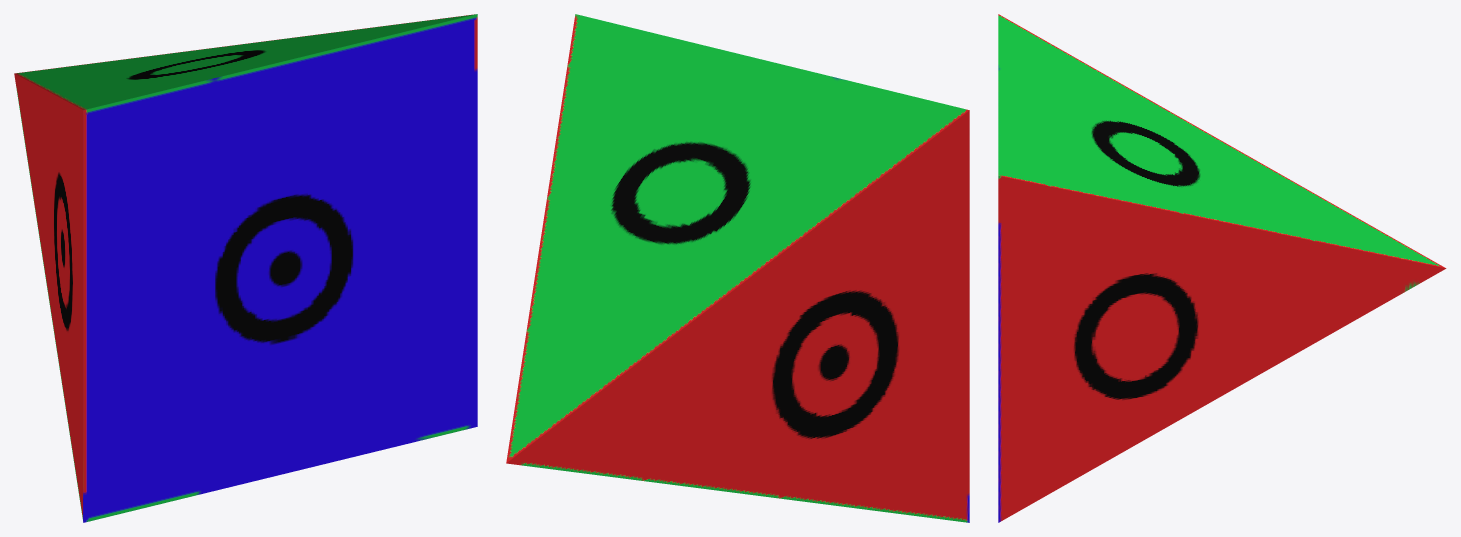
Rendered from Observation.fbx.
The picture shows the model from 3 angles, left to right: view 1: azimuth 30°, elevation 25°; view 2: azimuth 150°, elevation 25°; view 3: azimuth 270°, elevation 25°; orthographic projection. The views are drawn at different scales.
Visible parts, largest first — view 1: root; view 2: root; view 3: root.
Part boxes in pixels (left/top/right/bottom): root: left=14, top=14, right=477, bottom=522; root: left=506, top=14, right=969, bottom=522; root: left=998, top=14, right=1446, bottom=522.
Size of the model in its own units: 0.1839 by 0.1839 by 0.2152.
1 material, 1 textured.
